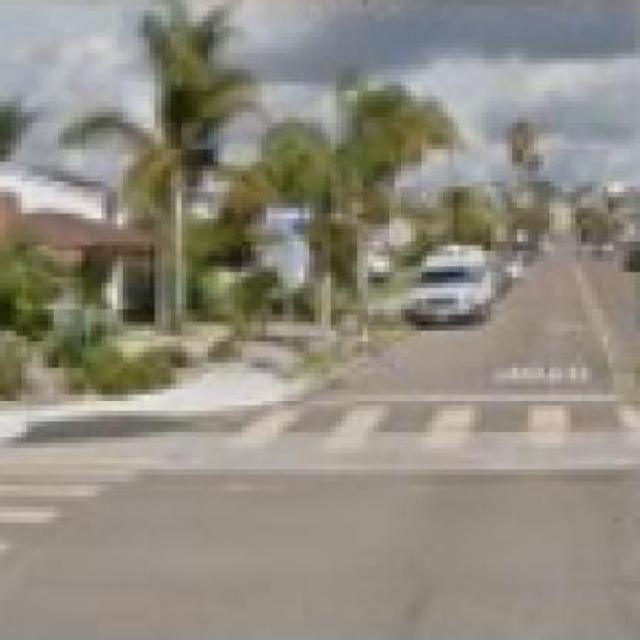crosswalk: (233, 399, 640, 455), (0, 440, 180, 557)
